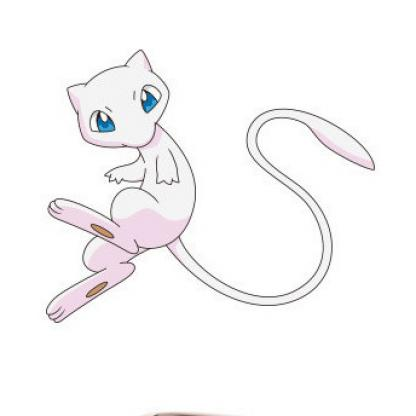Mew: (20, 37, 388, 357)
